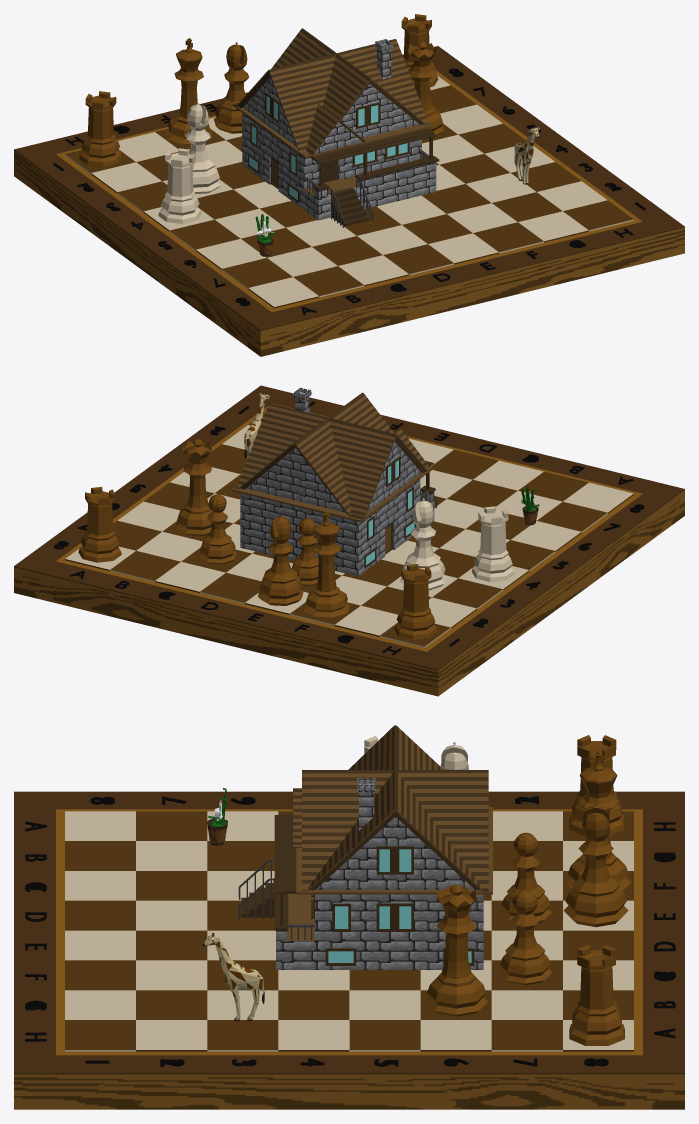
The picture shows the model from 3 angles, top to bottom: view 1: azimuth 30°, elevation 25°; view 2: azimuth 150°, elevation 25°; view 3: azimuth 270°, elevation 25°; orthographic projection. The views are drawn at different scales.
Parts seen in each view (by area): view 1: Cube.002, Cube.586, ANIMAL_JIRAFA, OBJRANDOM_MONJA BLANCA; view 2: Cube.002, Cube.586, ANIMAL_JIRAFA, OBJRANDOM_MONJA BLANCA; view 3: Cube.002, Cube.586, ANIMAL_JIRAFA, OBJRANDOM_MONJA BLANCA.
Part boxes in pixels (bbox=[...]): Cube.002: bbox=[14, 14, 684, 356]; Cube.586: bbox=[232, 28, 439, 227]; ANIMAL_JIRAFA: bbox=[514, 126, 539, 184]; OBJRANDOM_MONJA BLANCA: bbox=[255, 214, 274, 256]; Cube.002: bbox=[14, 385, 684, 696]; Cube.586: bbox=[232, 387, 436, 576]; ANIMAL_JIRAFA: bbox=[244, 393, 269, 459]; OBJRANDOM_MONJA BLANCA: bbox=[521, 487, 539, 525]; Cube.002: bbox=[14, 735, 684, 1109]; Cube.586: bbox=[238, 725, 492, 969]; ANIMAL_JIRAFA: bbox=[202, 932, 264, 1021]; OBJRANDOM_MONJA BLANCA: bbox=[207, 788, 227, 845].
Bounding box in the file's own units: 3981 × 1646 × 4012.
Materials: 28 (3 with a texture image).
